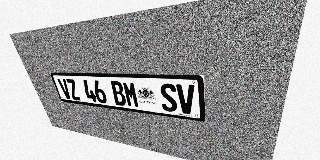4: (81, 80, 98, 102)
6: (91, 80, 108, 104)
B: (109, 81, 127, 106)
M: (122, 81, 140, 108)
S: (159, 83, 178, 112)
V: (176, 84, 195, 115), (57, 78, 73, 99)
Z: (65, 79, 81, 100)
